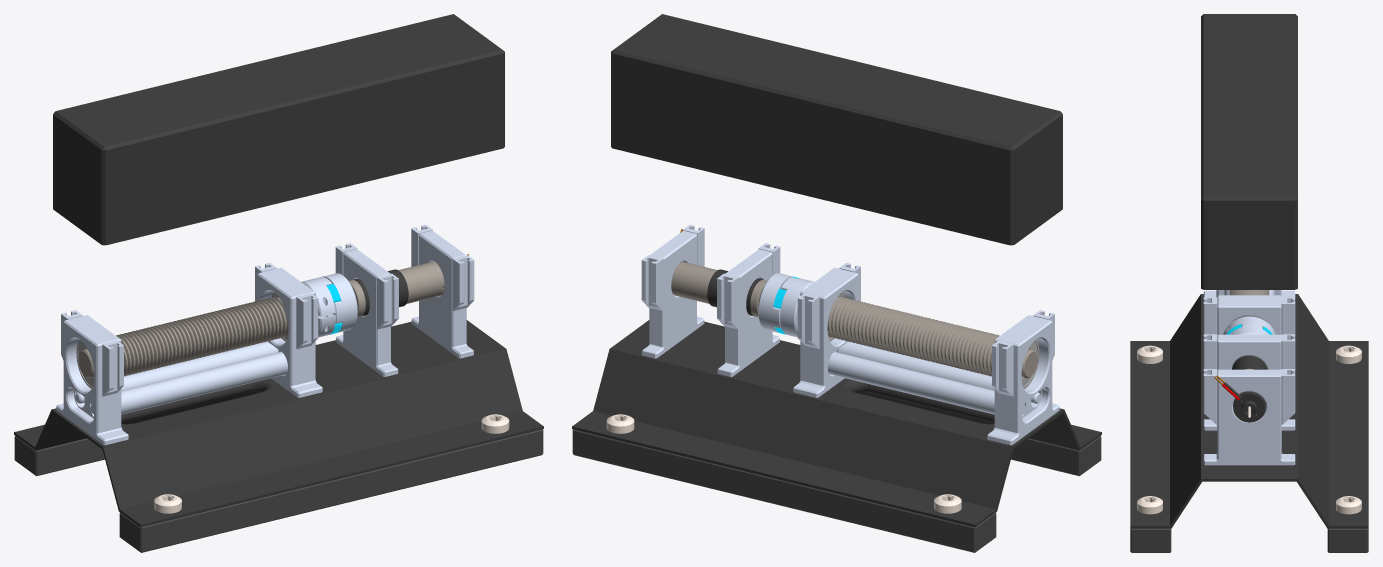
Rendered from winch.glb.
3 renders of one model, left to right at view 1: azimuth 30°, elevation 25°; view 2: azimuth 150°, elevation 25°; view 3: azimuth 270°, elevation 25°, orthographic. The views are drawn at different scales.
Visible parts, largest first — view 1: satin finish aluminum-9, satin finish aluminum-8, matte rubber-5[1], matte steel-2, satin finish aluminum-3[1], polished aluminum, satin finish aluminum-6, satin finish aluminum-3, satin finish aluminum-5, polished aluminum[1], matte rubber-5, matte aluminum (+6 smaller); view 2: satin finish aluminum-9, satin finish aluminum-8, matte rubber-5, matte steel-2, satin finish aluminum-3[1], polished aluminum[1], satin finish aluminum-6, satin finish aluminum-3, satin finish aluminum-5, polished aluminum, matte rubber-5[1], matte aluminum (+6 smaller); view 3: satin finish aluminum-8, satin finish aluminum-9, satin finish aluminum-6, satin finish aluminum-5, satin finish aluminum-3, matte rubber-5[1], matte rubber-5, dark grey low gloss plastic, satin finish aluminum-7[2], satin finish aluminum-7, satin finish aluminum-7[5], satin finish aluminum-7[4] (+9 smaller).
Part boxes in pixels (x1,y1,x2,y2): satin finish aluminum-9: (53, 14, 504, 245); satin finish aluminum-8: (14, 320, 543, 527); matte rubber-5[1]: (119, 429, 543, 552); matte steel-2: (78, 297, 288, 378); satin finish aluminum-3[1]: (56, 315, 128, 445); polished aluminum: (90, 351, 287, 414); satin finish aluminum-6: (411, 230, 473, 358); satin finish aluminum-3: (257, 267, 322, 397); satin finish aluminum-5: (336, 249, 398, 376); polished aluminum[1]: (75, 341, 278, 403); matte rubber-5: (14, 436, 104, 476); matte aluminum: (398, 261, 444, 303); satin finish aluminum-9: (611, 14, 1062, 245); satin finish aluminum-8: (572, 320, 1101, 527); matte rubber-5: (572, 429, 996, 552); matte steel-2: (827, 297, 1037, 378); satin finish aluminum-3[1]: (987, 315, 1059, 445); polished aluminum[1]: (828, 351, 1025, 414); satin finish aluminum-6: (642, 230, 704, 358); satin finish aluminum-3: (793, 267, 858, 397); satin finish aluminum-5: (717, 249, 779, 376); polished aluminum: (837, 341, 1040, 403); matte rubber-5[1]: (1011, 436, 1101, 476); matte aluminum: (671, 261, 717, 303); satin finish aluminum-8: (1130, 294, 1368, 528); satin finish aluminum-9: (1201, 14, 1297, 289); satin finish aluminum-6: (1203, 369, 1295, 465); satin finish aluminum-5: (1203, 334, 1295, 430); satin finish aluminum-3: (1217, 295, 1281, 334); matte rubber-5[1]: (1130, 528, 1171, 552); matte rubber-5: (1327, 528, 1368, 552); dark grey low gloss plastic: (1233, 391, 1265, 422); satin finish aluminum-7[2]: (1281, 369, 1295, 424); satin finish aluminum-7: (1203, 369, 1217, 424); satin finish aluminum-7[5]: (1281, 297, 1295, 334); satin finish aluminum-7[4]: (1203, 297, 1217, 334).
Size of the model in its own units: 0.16 by 0.1433 by 0.087.
